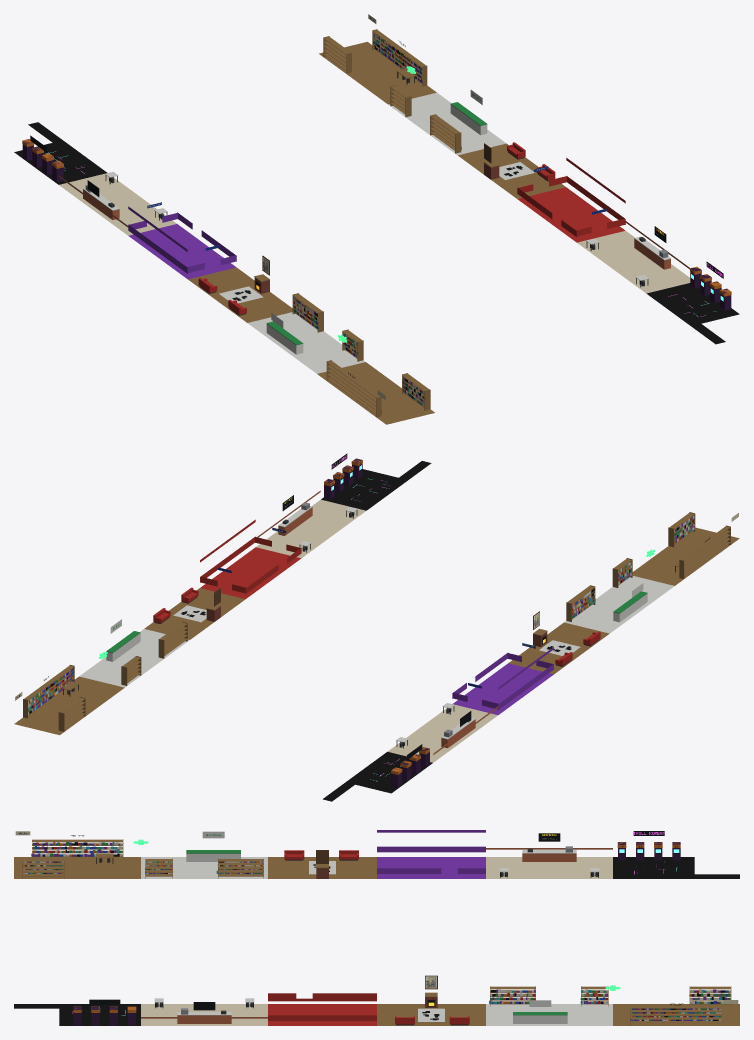
The model's file is ug-shops.glb.
3 views of the same model, one above another, from view 1: azimuth 30°, elevation 25°; view 2: azimuth 150°, elevation 25°; view 3: azimuth 270°, elevation 25° (orthographic). The views are drawn at different scales.
Visible parts, largest first — view 1: ug-shops; view 2: ug-shops; view 3: ug-shops.
Boxes of the visible parts, left/top/right/bottom form: ug-shops: left=14, top=14, right=739, bottom=424; ug-shops: left=14, top=453, right=739, bottom=801; ug-shops: left=14, top=830, right=739, bottom=1025.
Bounding box in the file's own units: 44 × 3.5 × 80.
9 materials, 2 textured.
